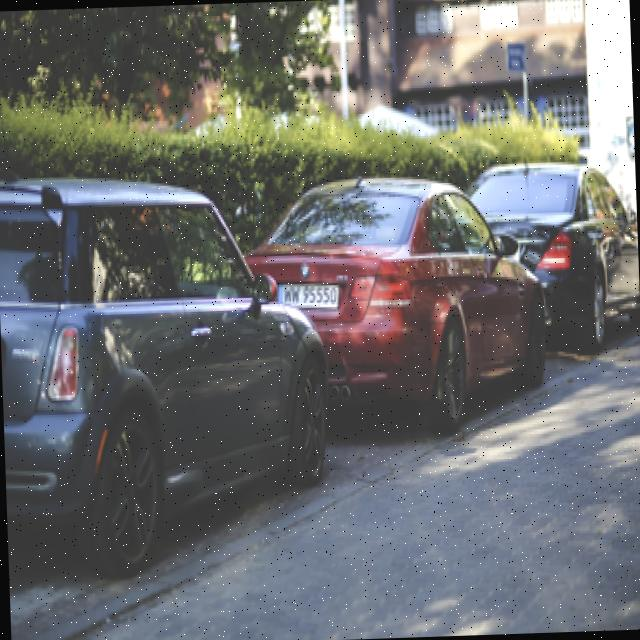Autre: (276, 273, 342, 326)
